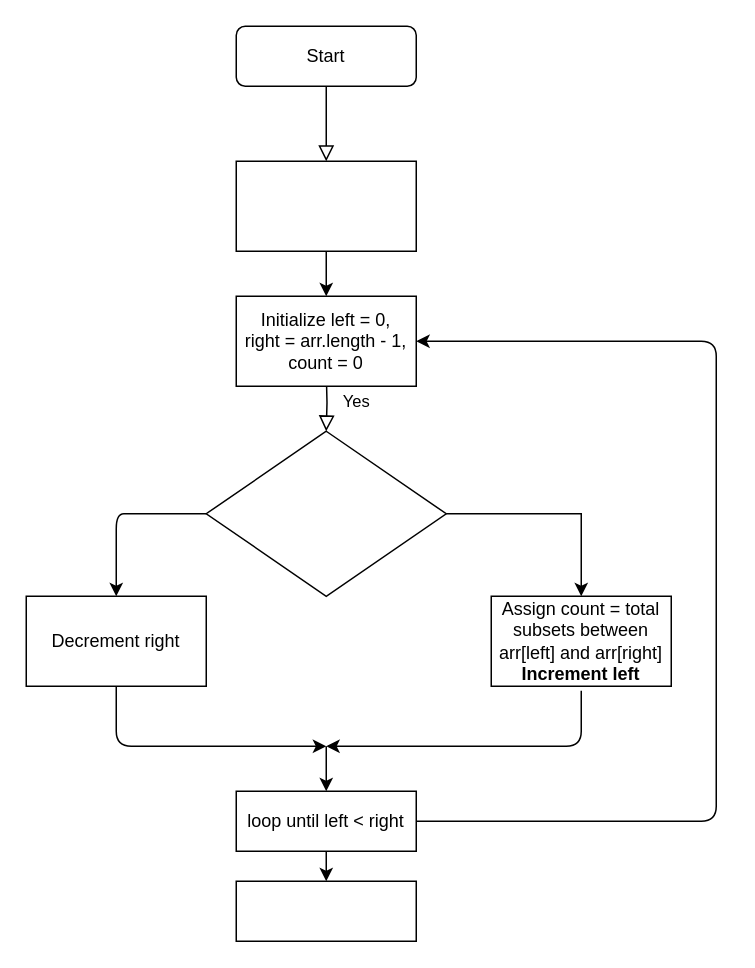
The diagram is 755 pixels wide and 968 high, and some of its shapes have lost their labels. The shapes that lost their labels are listed below. From the top down, each one's centre as x and y in pixels, then its label:
(x=325, y=205): Sort the Array
(x=325, y=513): is arr[left] + arr[right] <= k
(x=325, y=910): Stop
